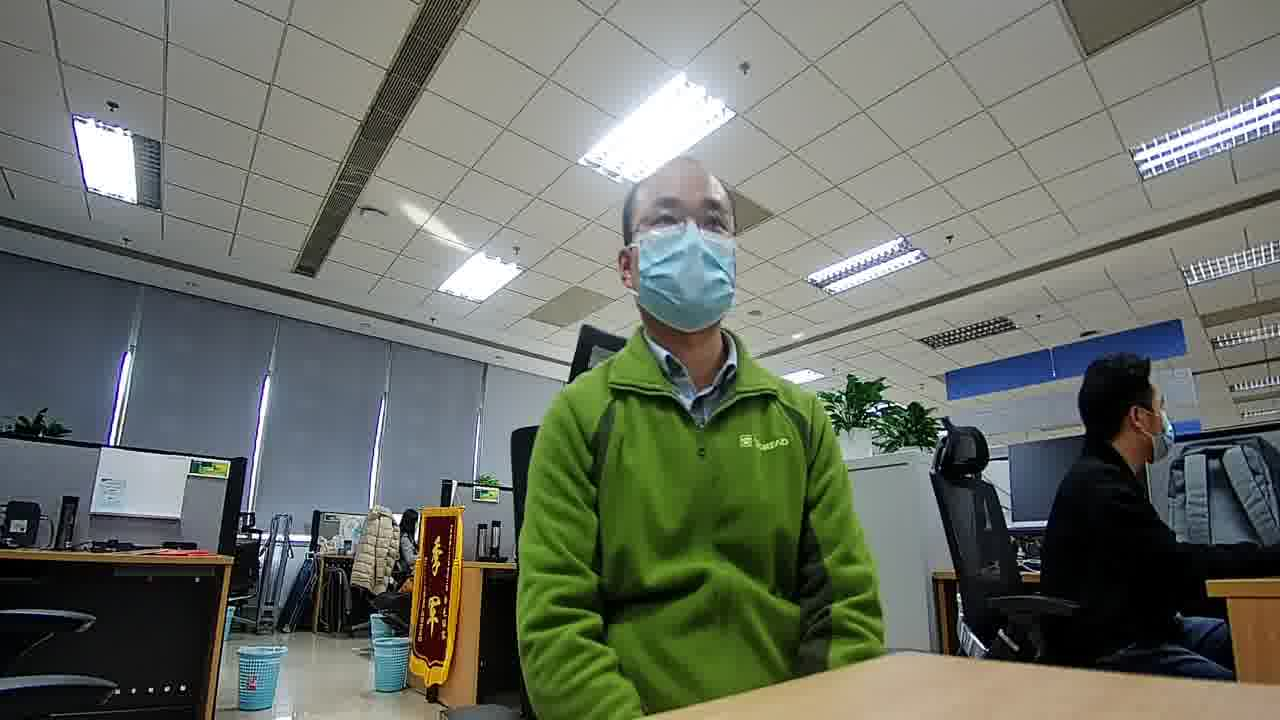face: (624, 174, 740, 334), (1144, 387, 1176, 465)
mask: (633, 225, 735, 332), (1149, 412, 1175, 458)
person: (540, 166, 829, 438), (1050, 351, 1176, 514), (395, 505, 417, 546)
